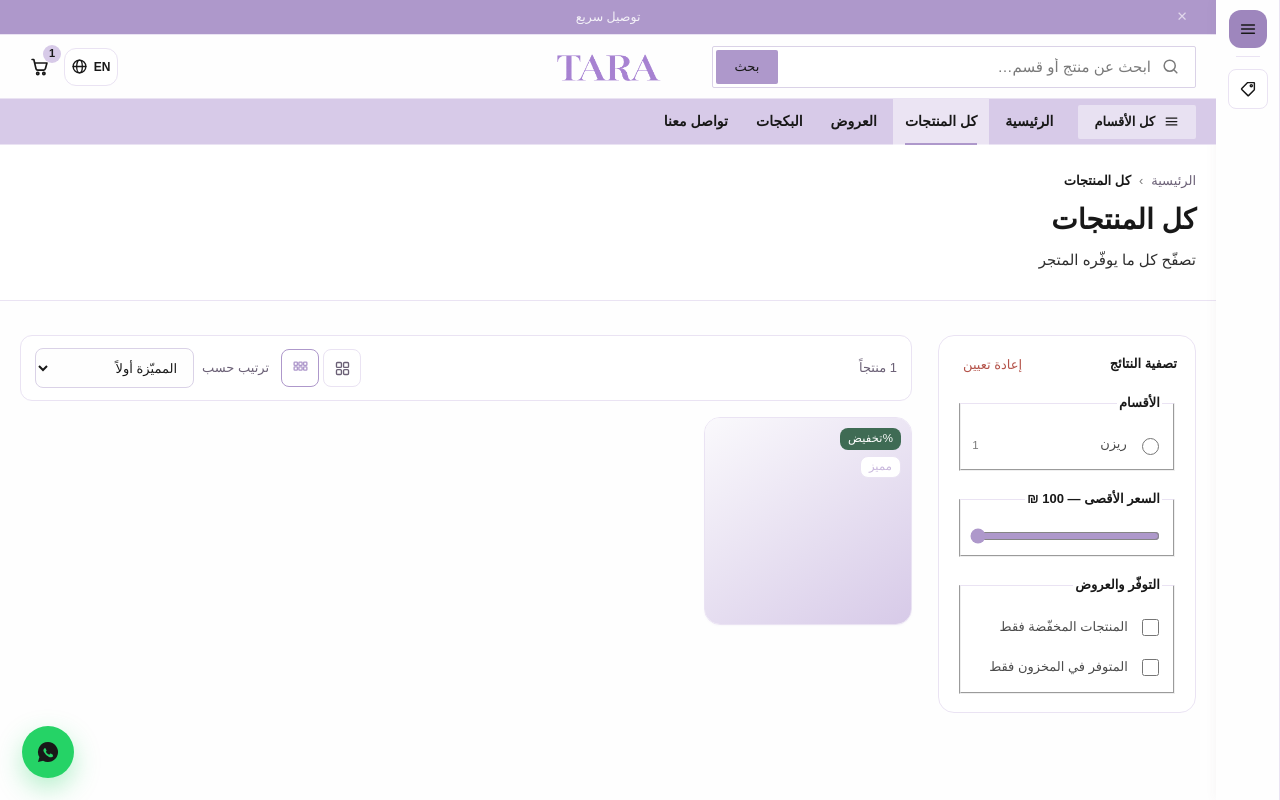
it: free delivery notice › omits the thresholds from the cart drawer and keeps them at checkout
Click the button named "عربة التسوّق": click(39, 66) [20, 48, 58, 86]
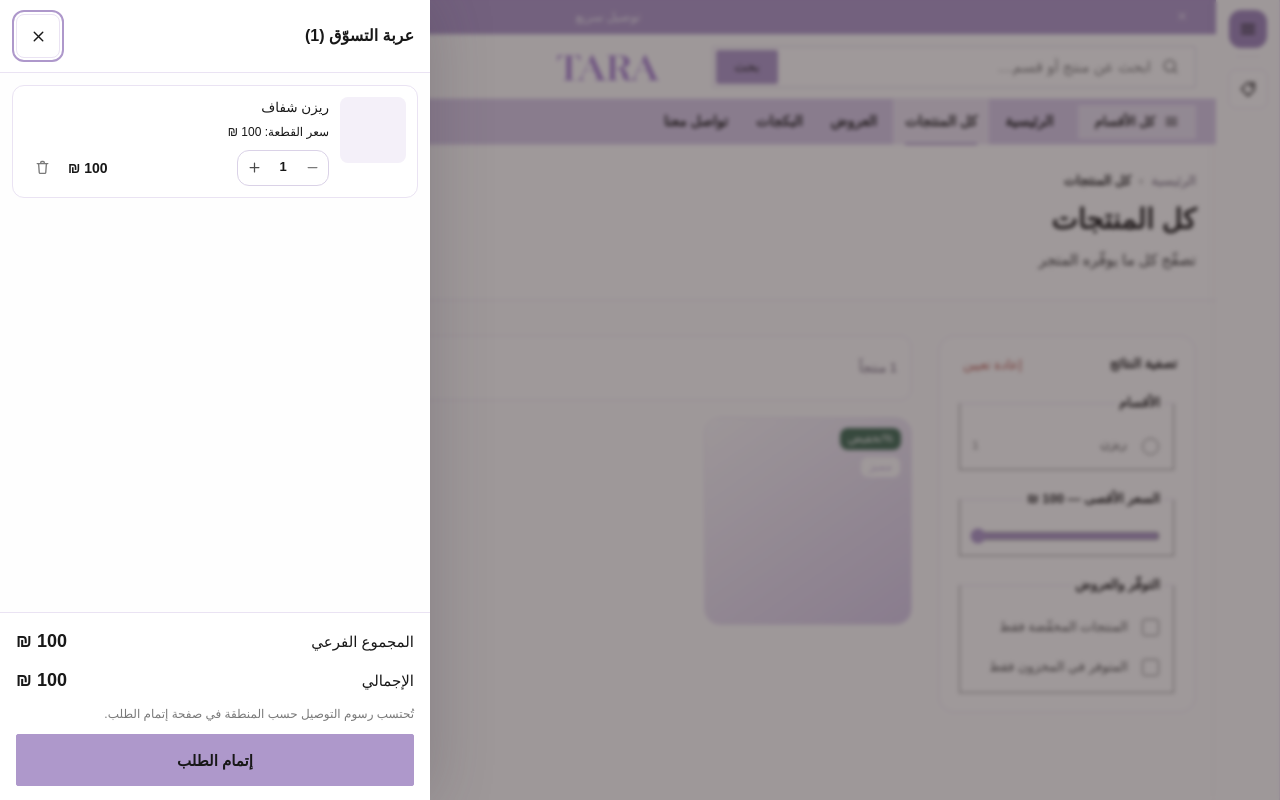
Expected: the text "التوصيل المجاني" is not shown
Click the button "إتمام الطلب": click(215, 760) [16, 734, 414, 786]
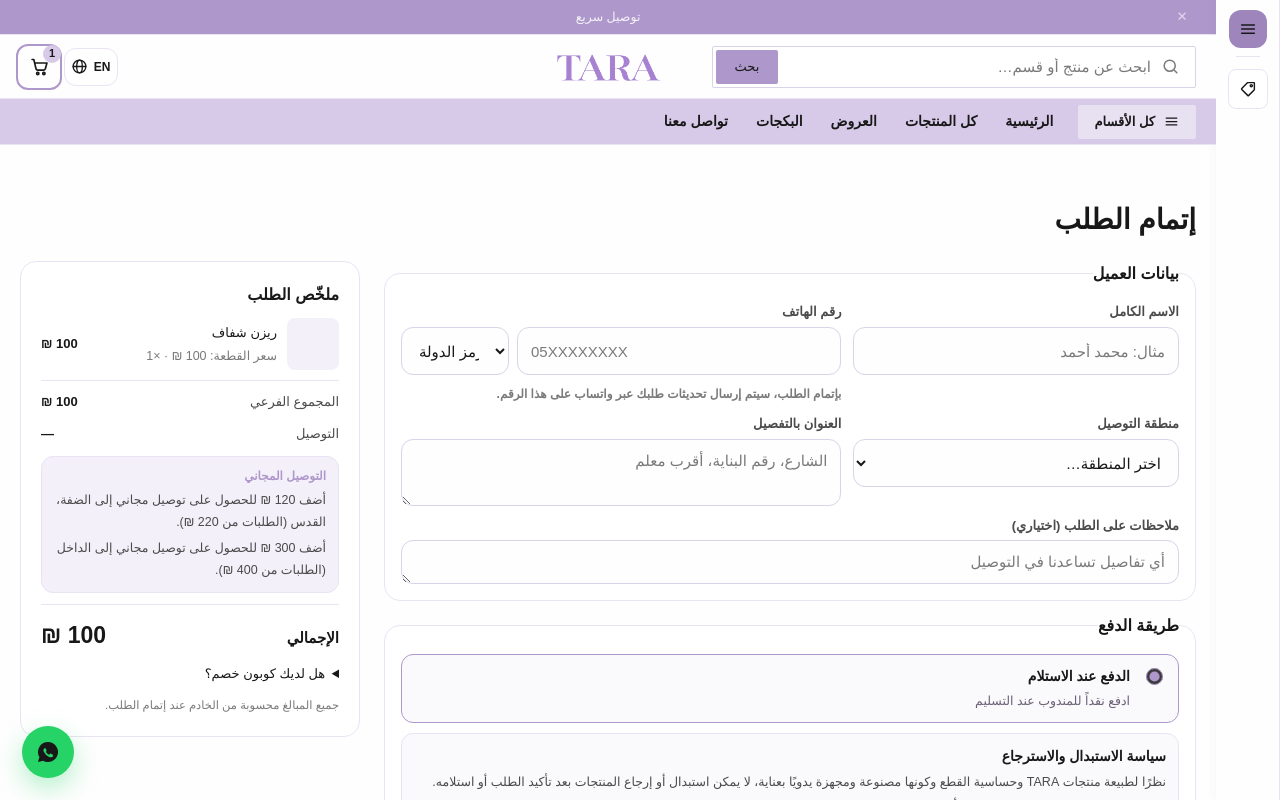
Now the text "الضفة، القدس" shows "أضف 120 ₪", box [54, 490, 326, 534]
Now the text "الداخل" shows "أضف 300 ₪", box [54, 538, 326, 582]
